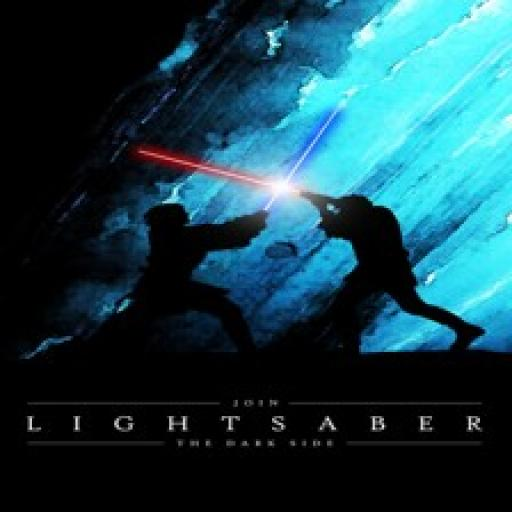human: (316, 190, 485, 354), (96, 199, 274, 347)
lightsaber: (261, 101, 348, 213)
sith saber: (141, 149, 311, 200)
